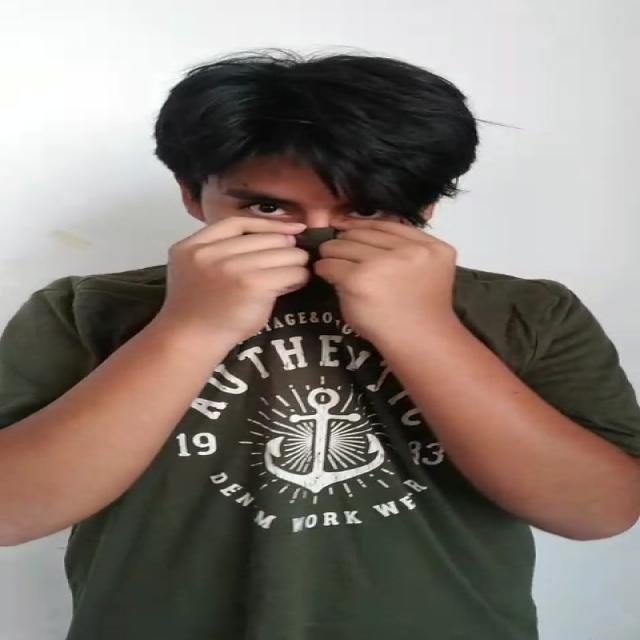8_ropa_rostro: (121, 221, 532, 353)
